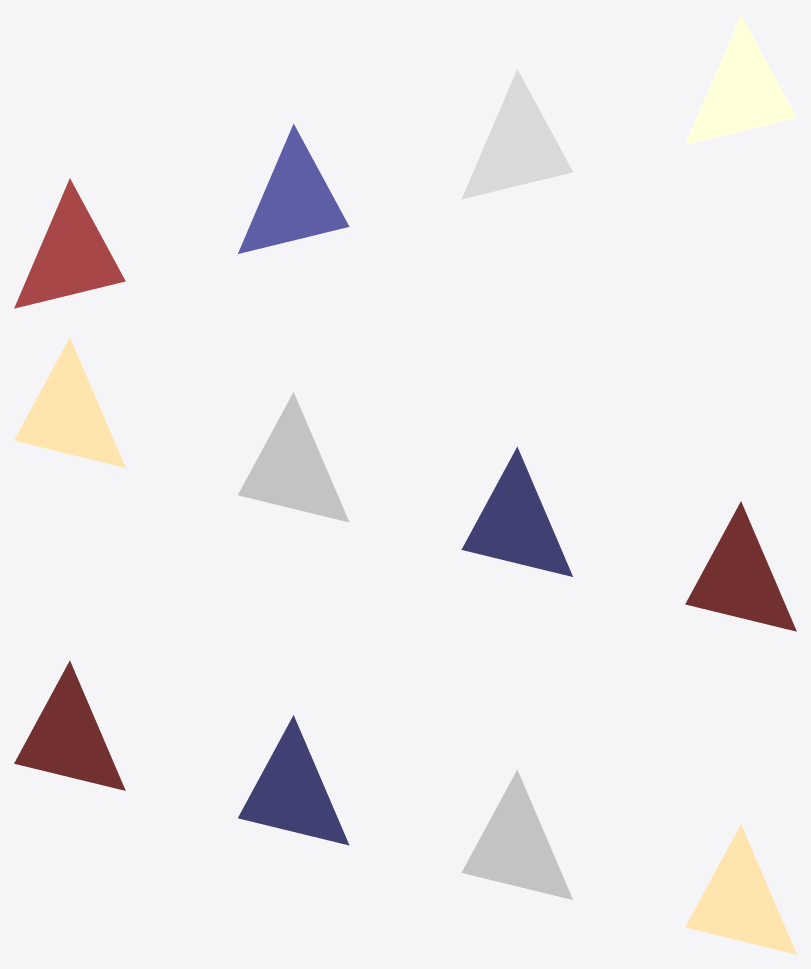
File: seed_material_extensions.glb
3 renders of one model, top to bottom at view 1: azimuth 30°, elevation 25°; view 2: azimuth 150°, elevation 25°; view 3: azimuth 330°, elevation 25°, orthographic.
Visible parts, largest first — view 1: SheenMesh, ClearcoatMesh, SpecularMesh, TransmissionMesh; view 2: SheenMesh, ClearcoatMesh, SpecularMesh, TransmissionMesh; view 3: SpecularMesh, ClearcoatMesh, SheenMesh, TransmissionMesh.
Part boxes in pixels (x1=…): SheenMesh: x1=238, y1=123, x2=349, y2=253; ClearcoatMesh: x1=14, y1=178, x2=125, y2=308; SpecularMesh: x1=685, y1=14, x2=796, y2=144; TransmissionMesh: x1=462, y1=69, x2=572, y2=198; SheenMesh: x1=461, y1=446, x2=572, y2=576; ClearcoatMesh: x1=685, y1=501, x2=796, y2=631; SpecularMesh: x1=14, y1=337, x2=125, y2=467; TransmissionMesh: x1=238, y1=392, x2=348, y2=521; SpecularMesh: x1=685, y1=824, x2=796, y2=954; ClearcoatMesh: x1=14, y1=660, x2=125, y2=790; SheenMesh: x1=238, y1=715, x2=349, y2=845; TransmissionMesh: x1=461, y1=770, x2=572, y2=899.
Bounding box in the file's own units: 7 × 1 × 0.
